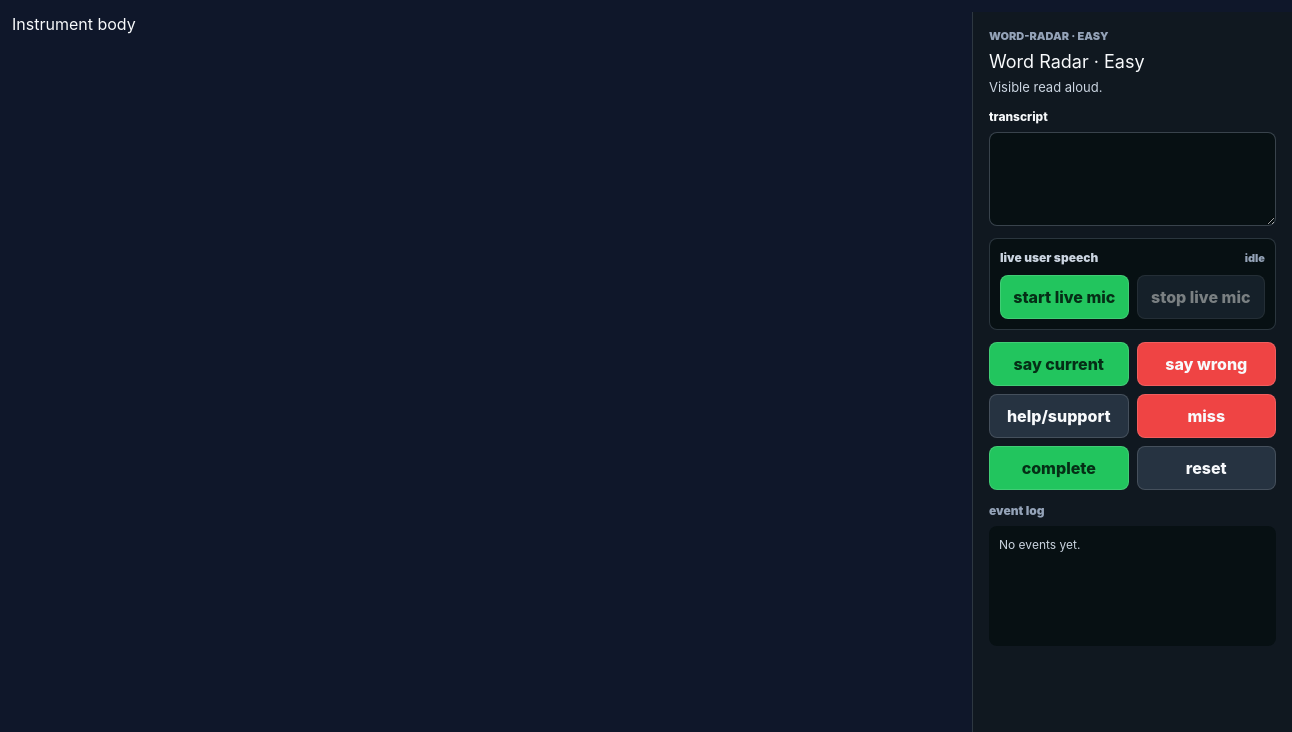
it: baseline QA Storybook harness › renders transcript controls and logs simulated events
Expected: the text "Instrument body" is shown, [12,14,136,34]
Click the button "say current" at (1059,364), box [989,342,1128,386]
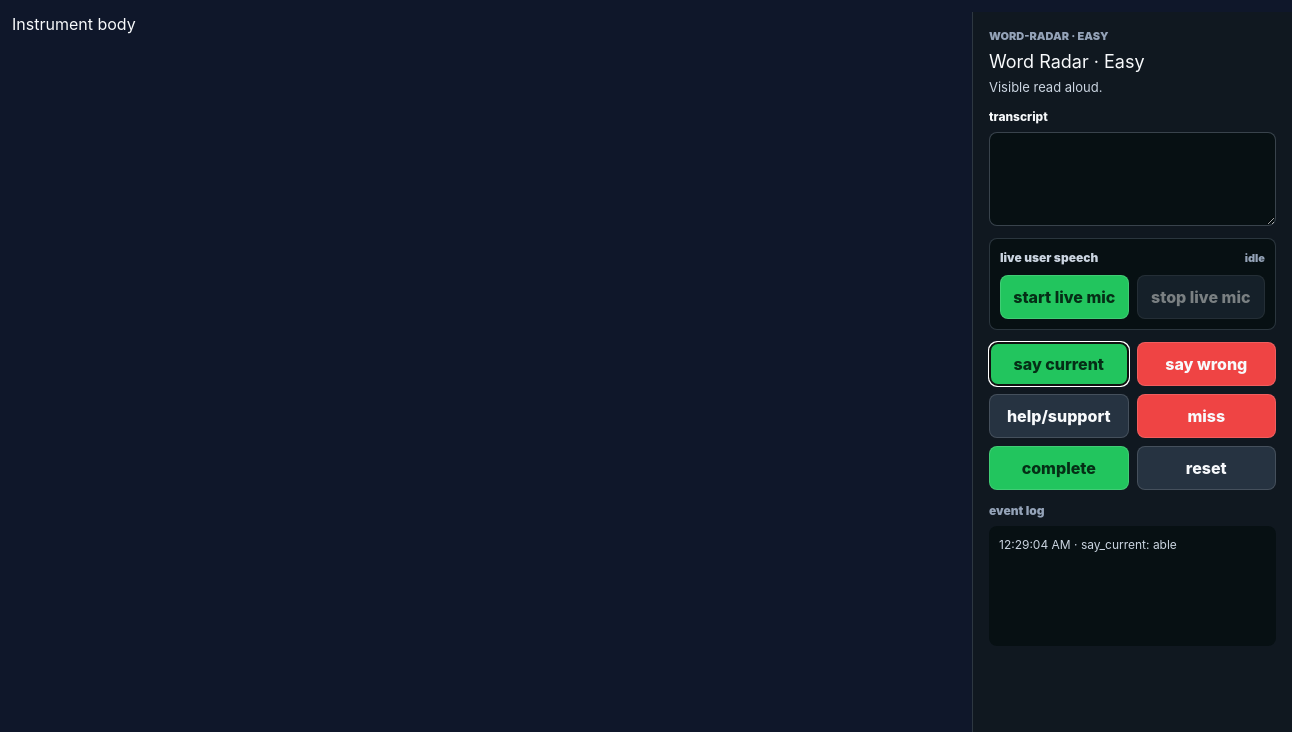
Now the text "12:29:04 AM · say_current: able" is shown, box [999,537,1177,552]
